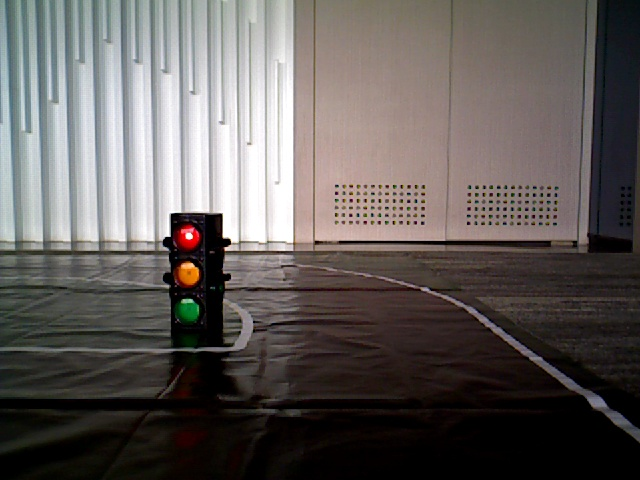red: (172, 218, 211, 323)
